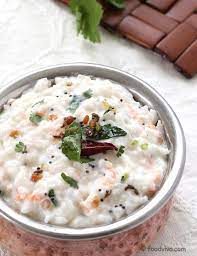curd_rice: (2, 72, 175, 227)
